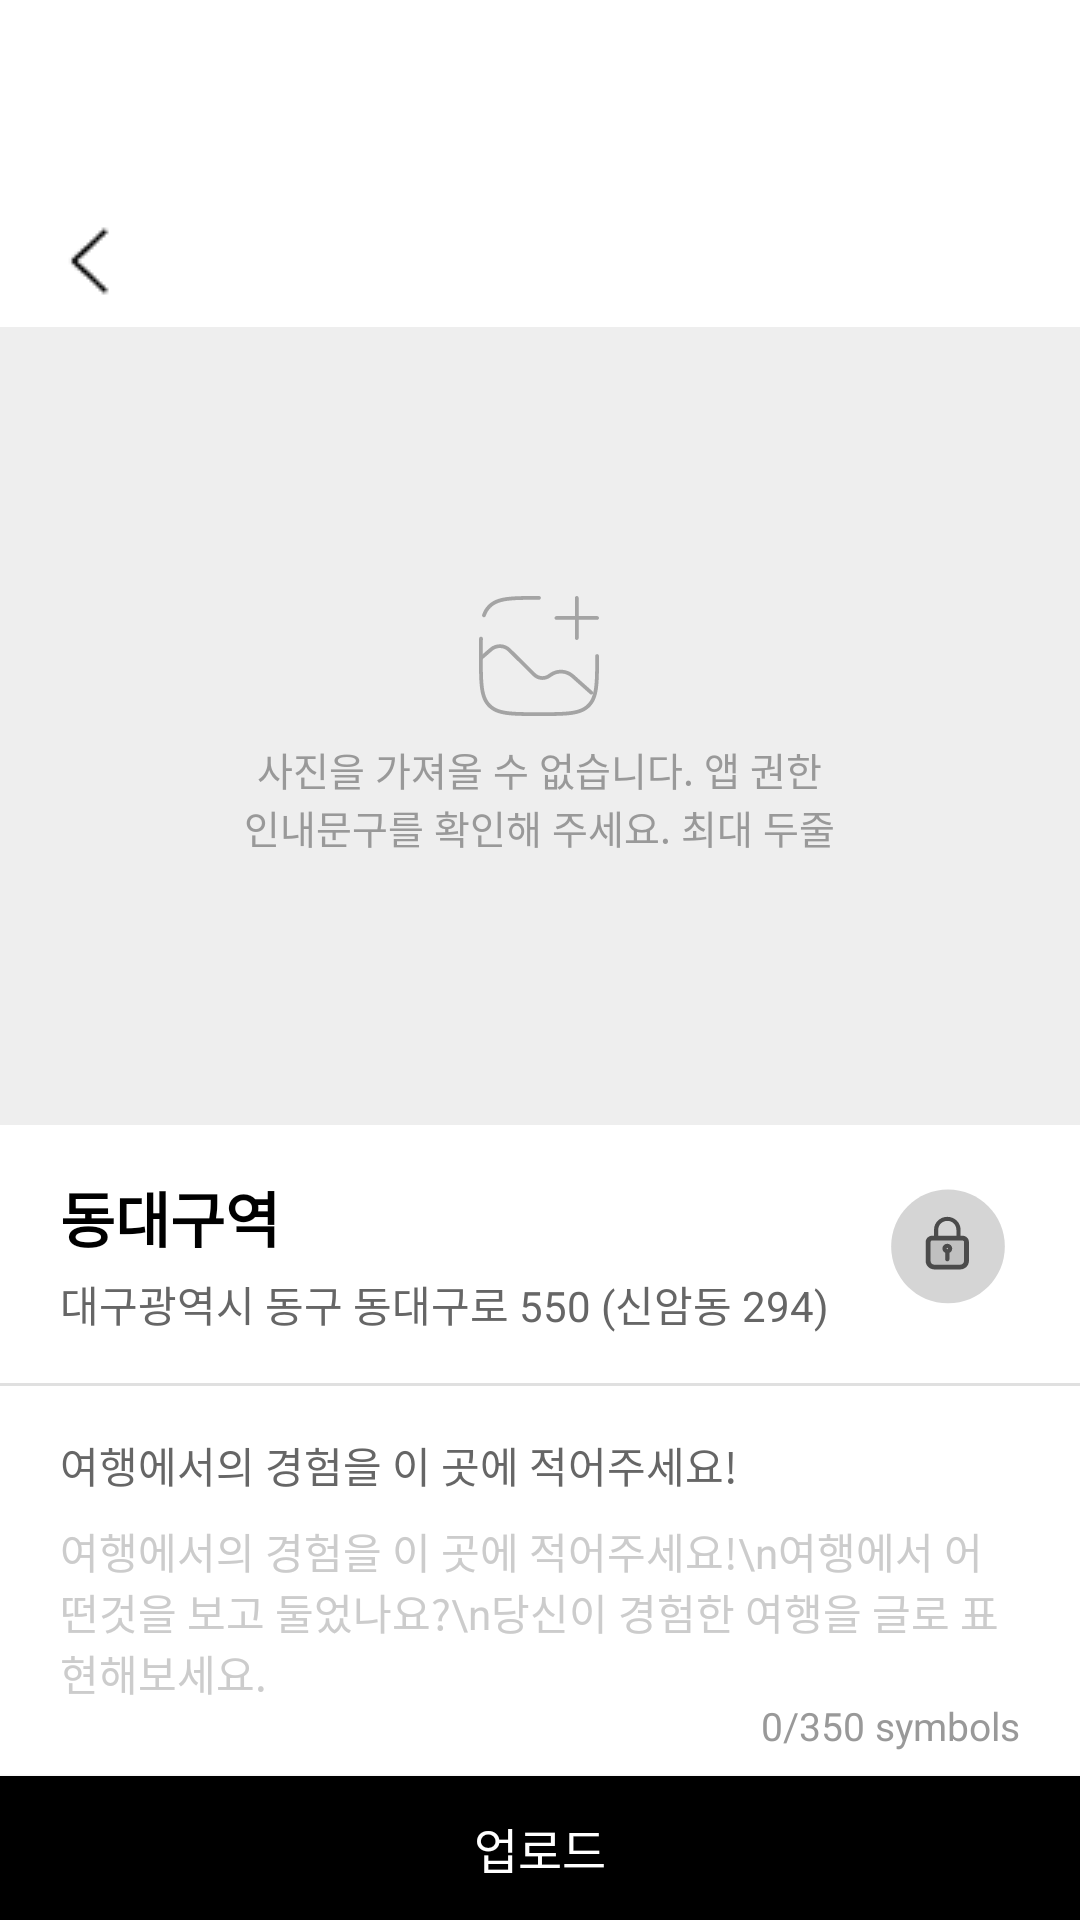

Where icons sit on this 1080px×1920px app screen, as (x1, y1, x2, y2):
back: (71, 227, 109, 295)
circle lock: (891, 1190, 1005, 1303)
